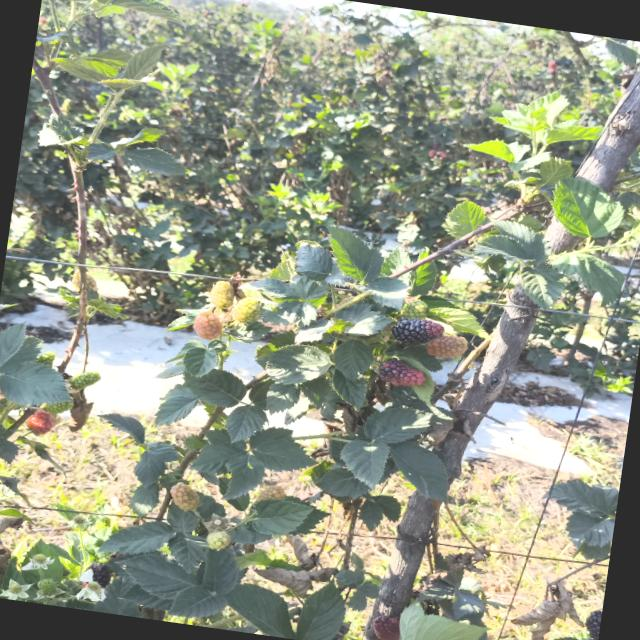marron: (392, 317, 444, 345), (379, 358, 426, 387)
naranja: (427, 336, 468, 358), (193, 311, 223, 340), (171, 483, 200, 511), (26, 410, 54, 435), (373, 616, 400, 640)
verde: (230, 298, 262, 323), (210, 281, 235, 308), (69, 371, 101, 390), (43, 397, 74, 416), (401, 299, 429, 319), (207, 531, 231, 550), (35, 352, 56, 367)
